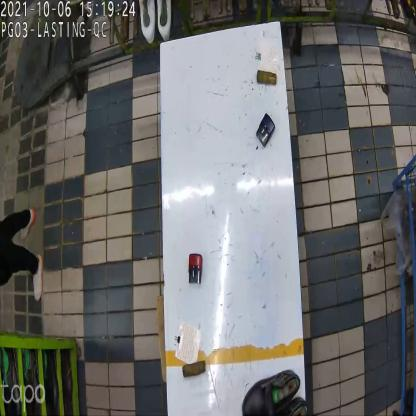shoes: (241, 367, 309, 415)
stamp: (256, 112, 275, 148), (185, 252, 204, 286)
